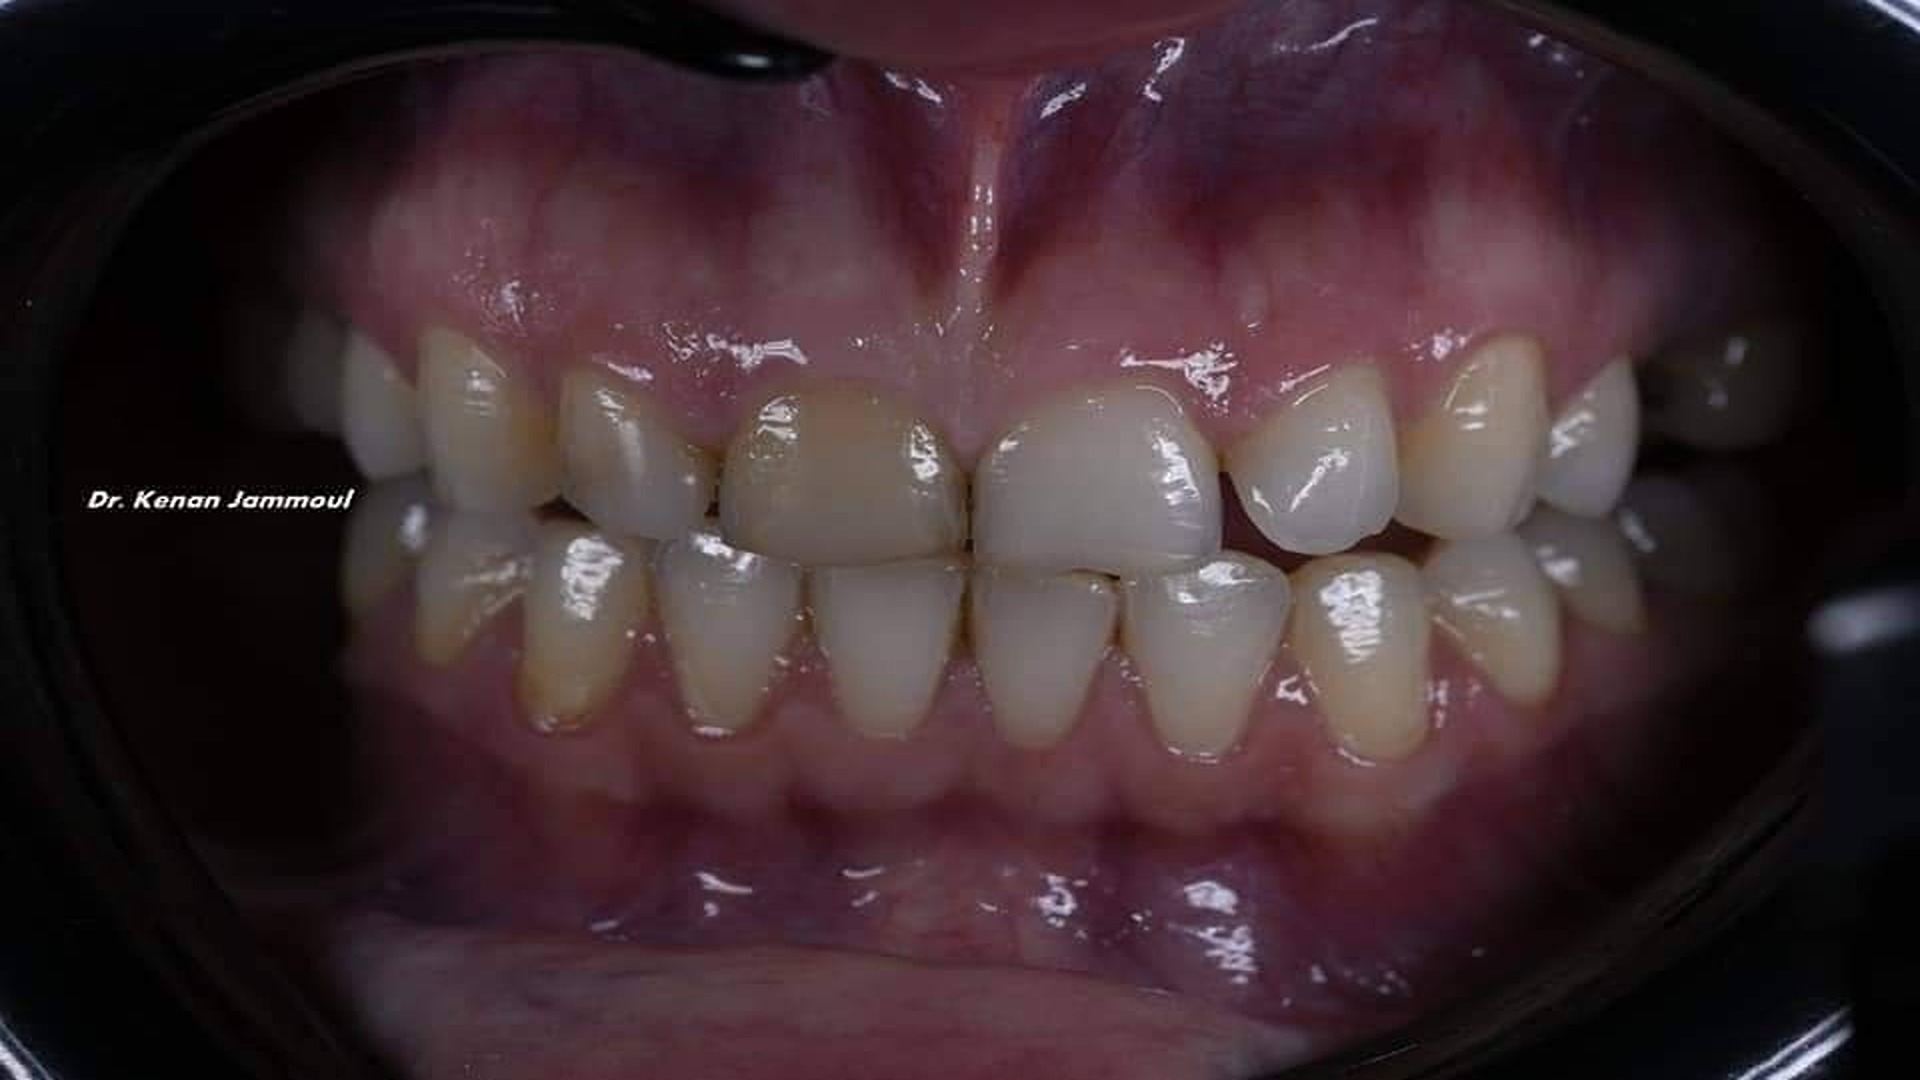tooth: (973, 384, 1222, 575), (717, 377, 968, 567), (1121, 553, 1290, 756), (1226, 361, 1399, 556), (1394, 332, 1548, 539), (654, 529, 802, 735), (517, 517, 655, 732), (1292, 553, 1429, 762), (559, 367, 719, 541), (417, 328, 560, 516), (969, 568, 1118, 746), (815, 563, 963, 738), (1420, 535, 1563, 705), (415, 512, 542, 666), (1538, 356, 1640, 518)
